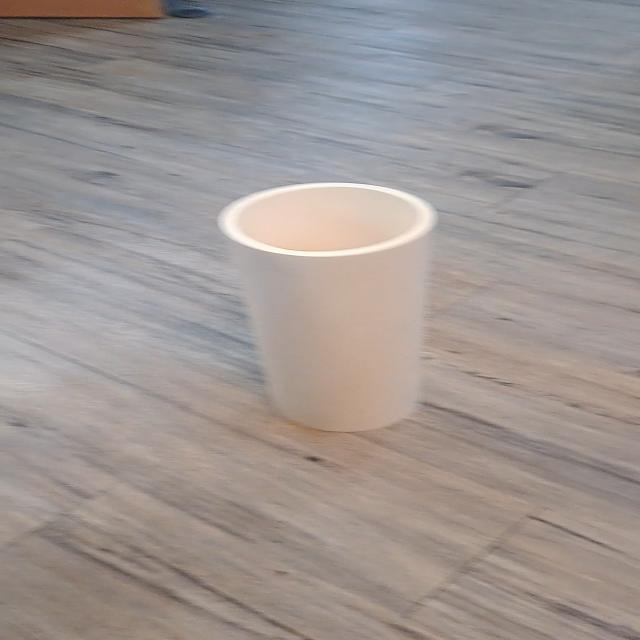CORAL: (140, 169, 523, 457)
